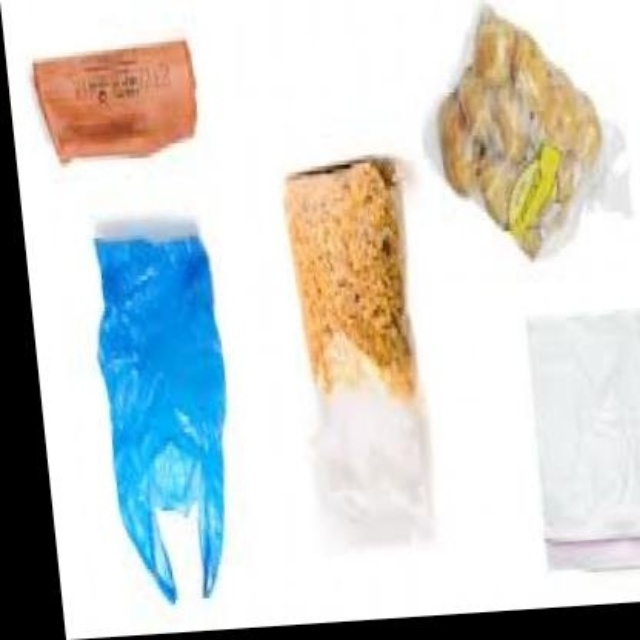trash: (286, 158, 428, 542), (97, 235, 223, 602), (440, 8, 600, 257), (529, 309, 638, 568), (34, 42, 195, 160)
